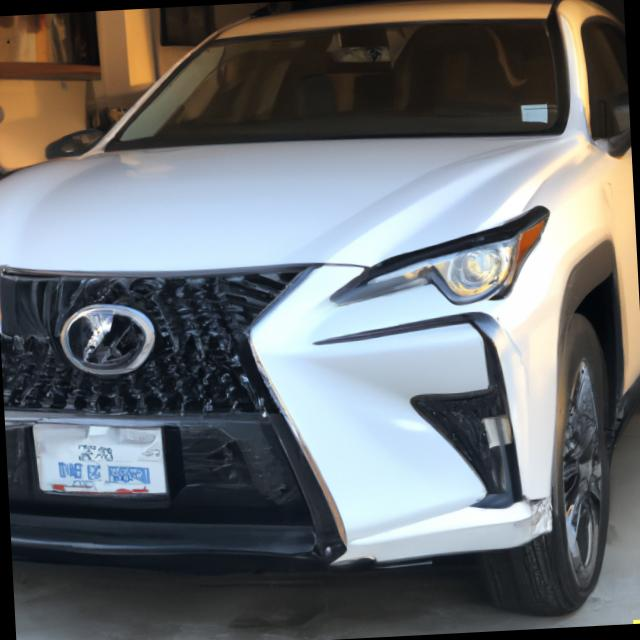LicensePlate: (32, 423, 167, 496)
